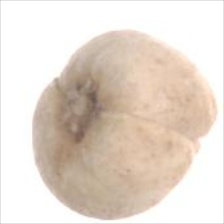L4: (32, 29, 217, 219)
